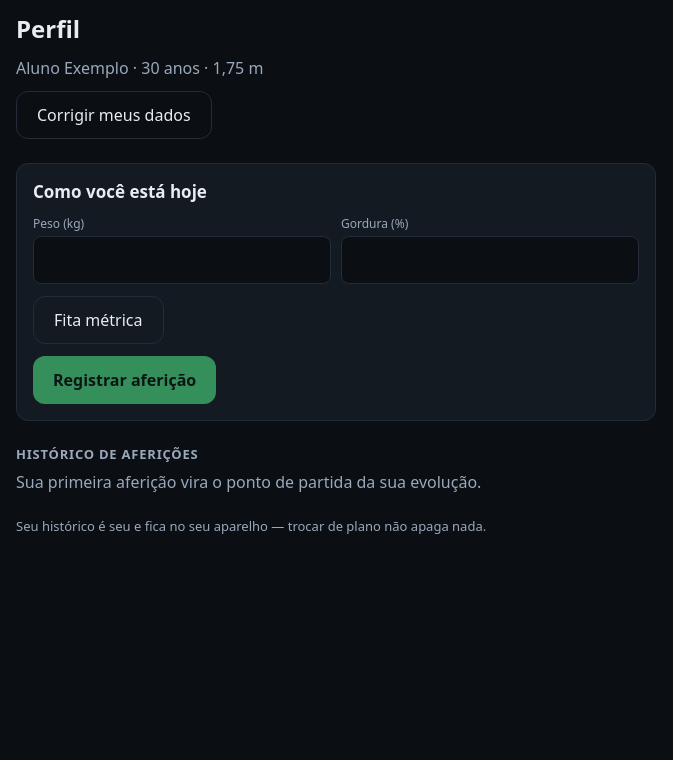
TelaPerfil › quem é o aluno › desiste da correção sem gravar nada
The image size is (673, 760).
Click the button "Corrigir meus dados" at (114, 115), box x1=16 y1=91 x2=212 y2=139
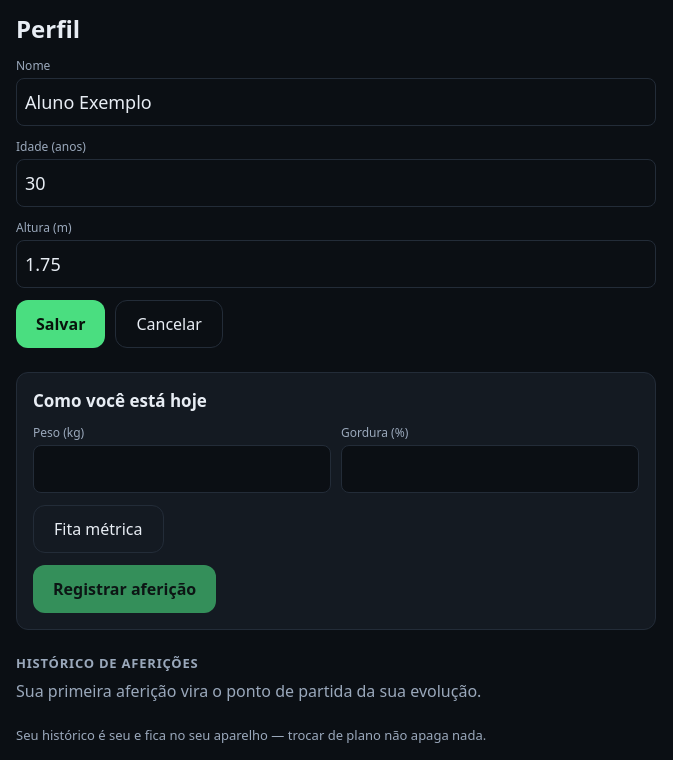
Replace the text in the number field labelled "Idade (anos)" with "99" at (336, 183), box x1=16 y1=159 x2=656 y2=207
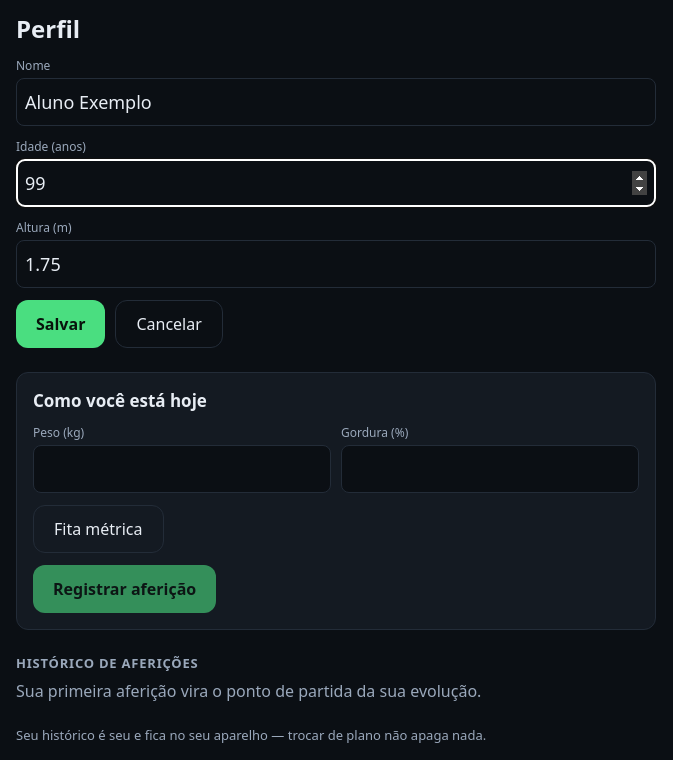
Click the button "Cancelar" at (169, 324), box x1=115 y1=300 x2=223 y2=348
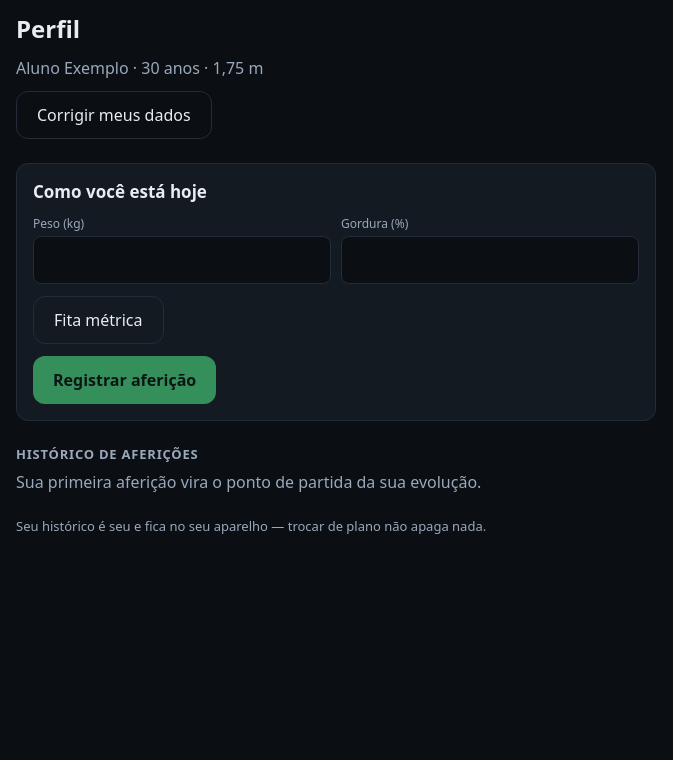
expect the text "Aluno Exemplo · 30 anos · 1,75 m" is shown: met, box x1=16 y1=57 x2=263 y2=79
